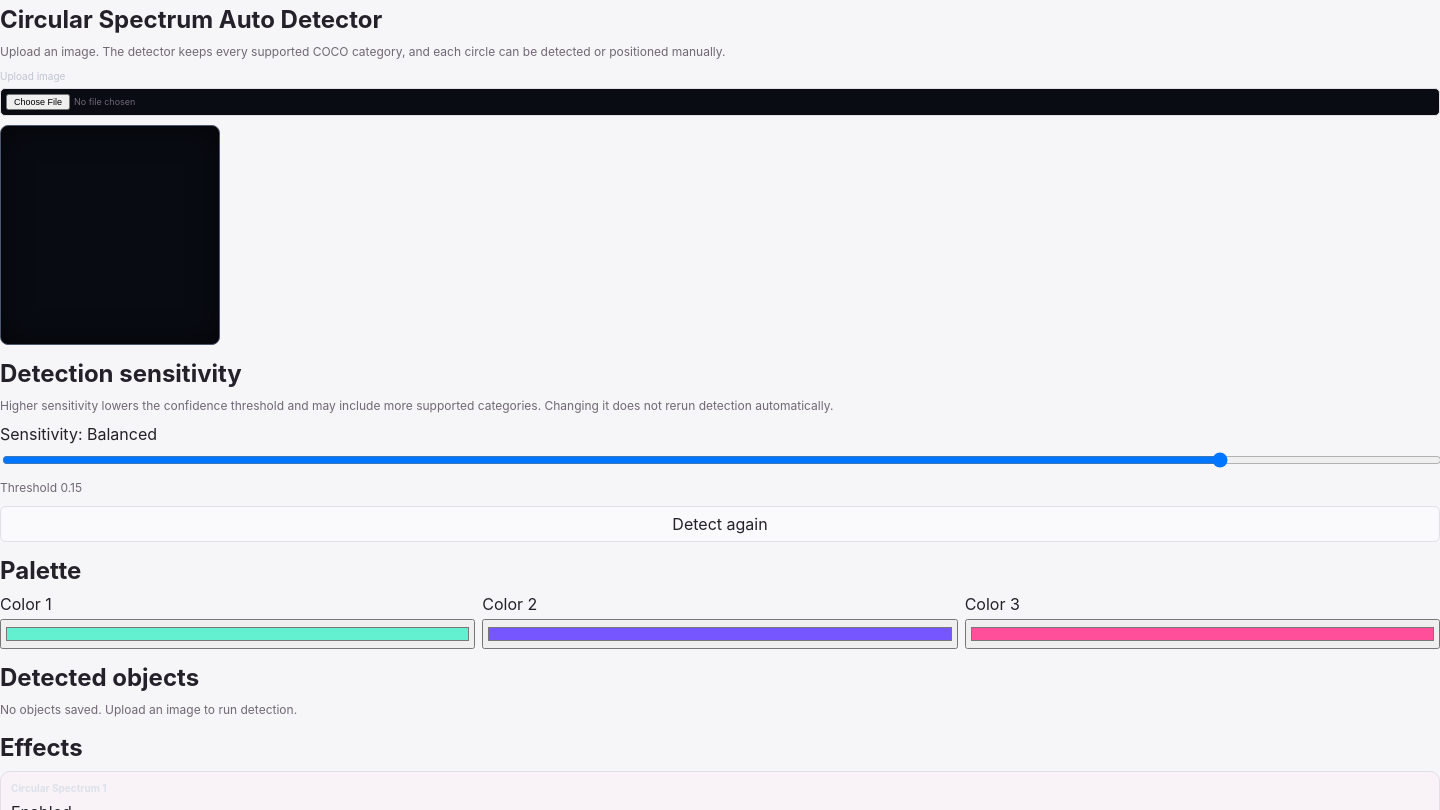
Scenario: BackgroundAutoPanel › aborts superseded detections and ignores their late progress and result
The width and height of the screenshot is (1440, 810).
Click the button "Detect again" at (720, 524), box [0,506,1439,542]
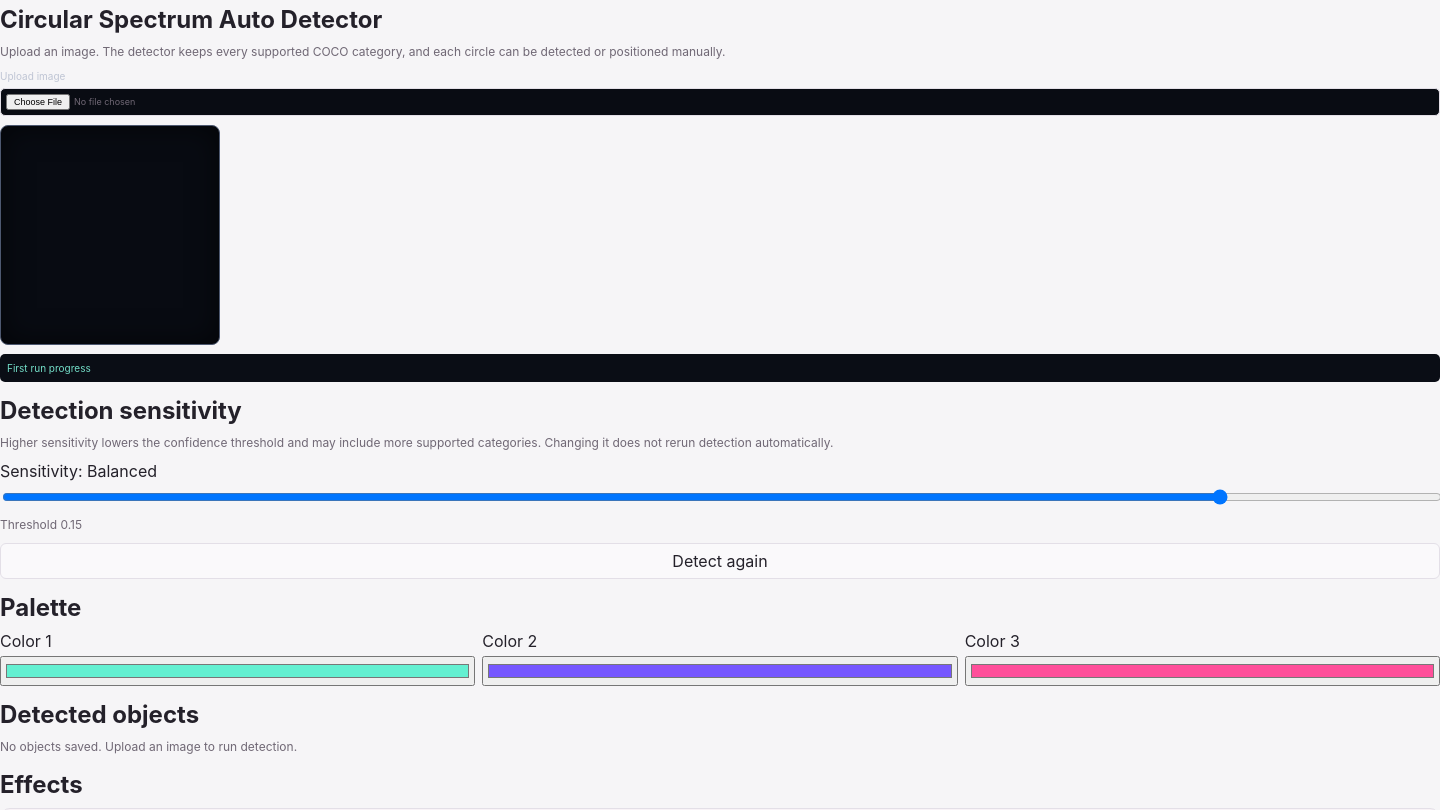
Expected: the text "First run progress" is shown, [0,354,1439,382]
Click the button "Detect again" at (720, 561), box [0,543,1439,579]
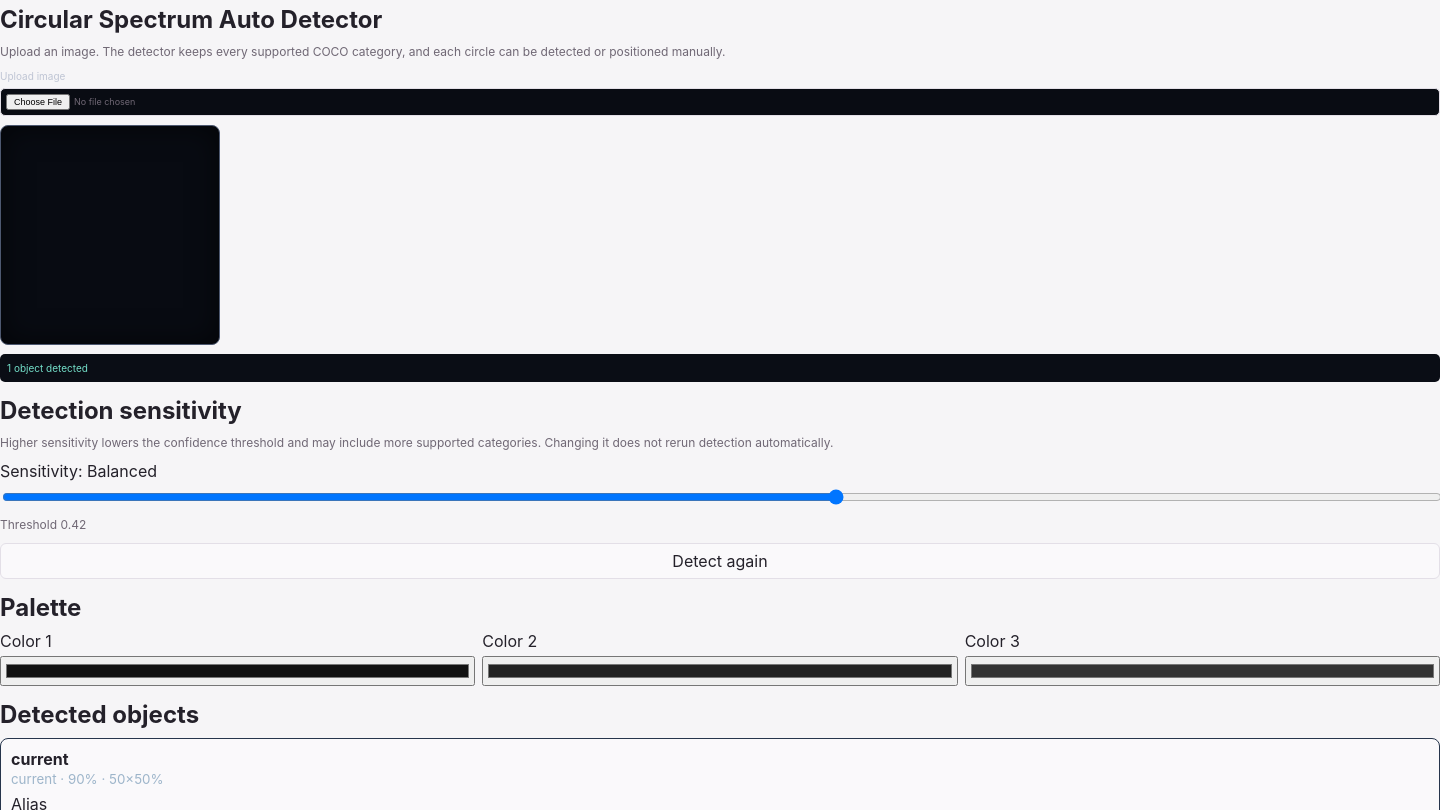
Expected: the text "current" is shown, [11,749,68,769]
Expected: the text "1 object detected" is shown, [0,354,1439,382]
